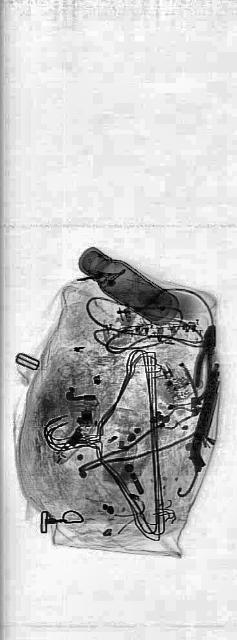Pliers: (194, 314, 218, 398)
